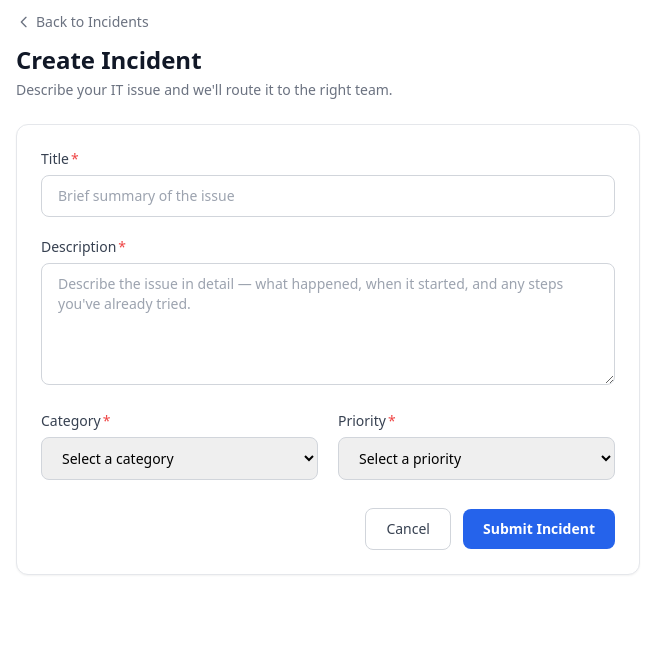
CreateIncidentPage › clears title error as soon as user starts typing
Click the button "Submit Incident" at (539, 529), box [463,509,615,549]
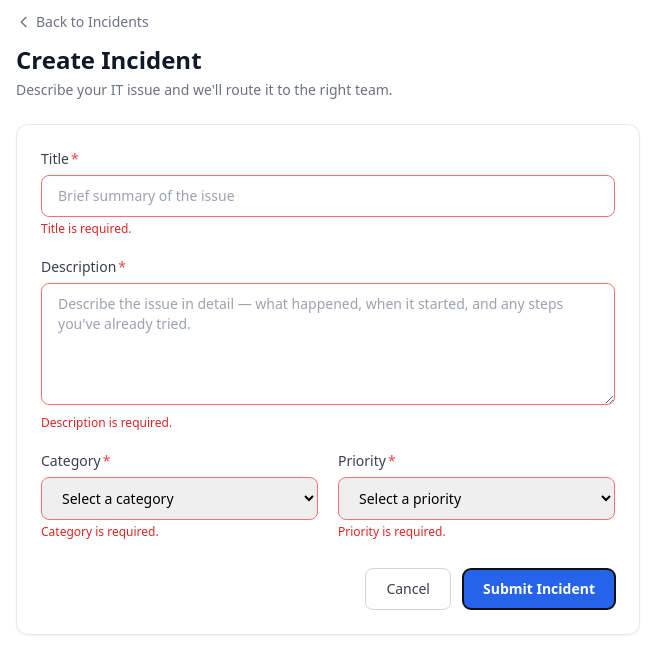
Expected: the text "Title is required." is shown, [41,220,132,237]
Type "a" into the field labelled "Title*" at (328, 196), box [41,175,615,217]
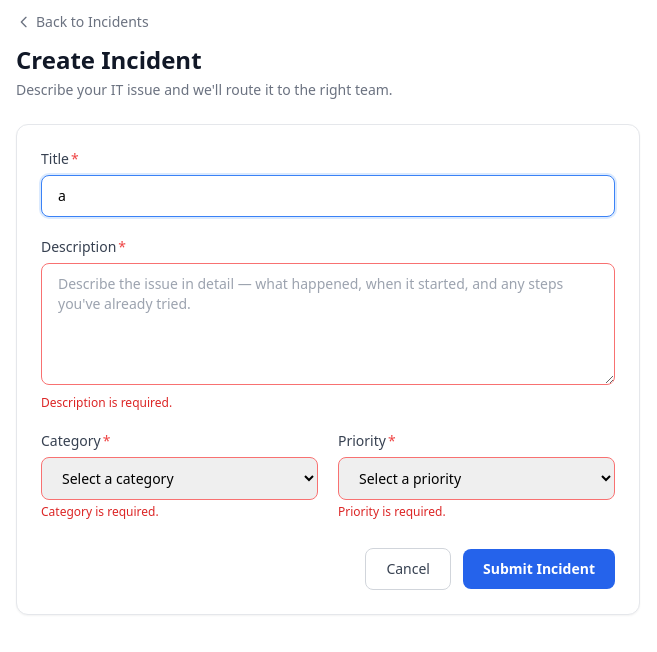
Expected: the text "Title is required" is gone
